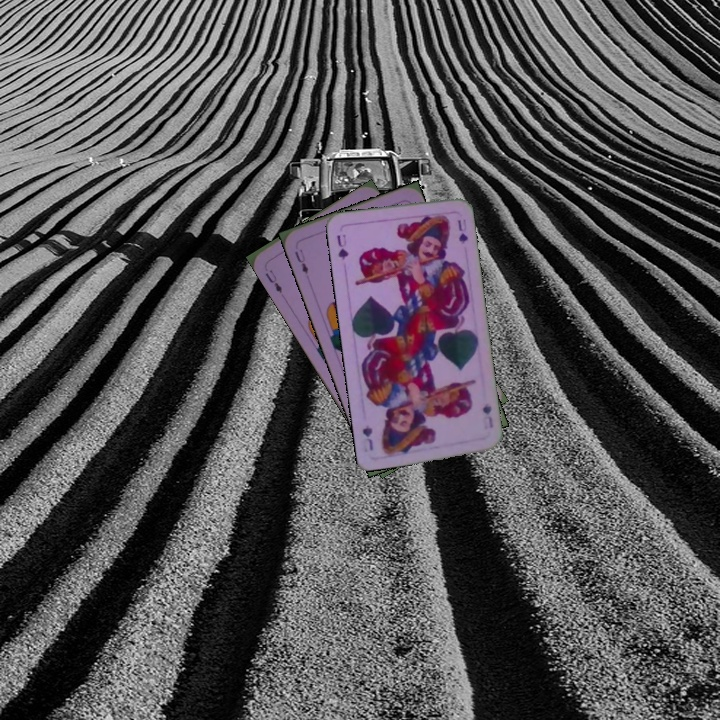EU: (261, 265, 285, 296), (290, 245, 311, 276)
GU: (477, 399, 496, 432), (333, 230, 351, 263)
